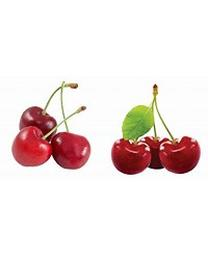cherry: (11, 126, 51, 167), (111, 136, 152, 176), (159, 135, 200, 173), (20, 105, 57, 142), (53, 134, 91, 169), (135, 135, 172, 170)
